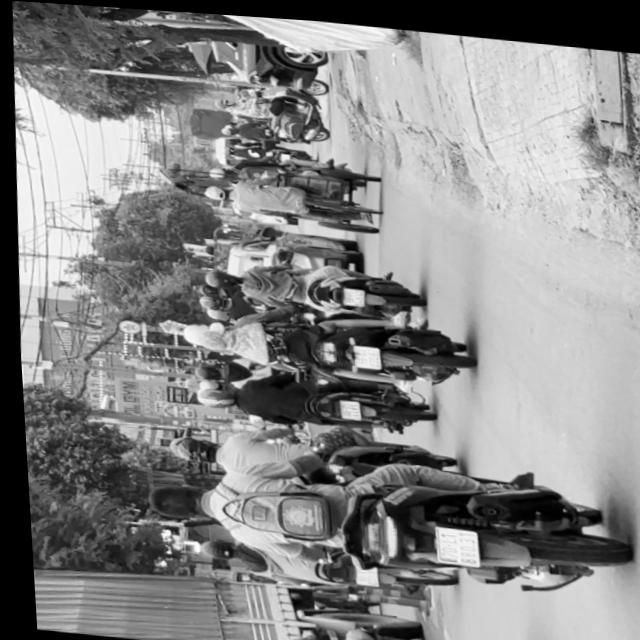helmet: (161, 432, 214, 464), (192, 319, 234, 351), (188, 535, 232, 562), (188, 385, 231, 408), (176, 318, 210, 347), (198, 267, 240, 288)
licenseplate: (135, 423, 622, 603), (165, 294, 471, 386), (159, 411, 457, 496), (186, 359, 429, 438), (195, 248, 422, 317)
motorcyclist: (140, 479, 208, 523)
nohelmet: (426, 520, 473, 561), (347, 340, 375, 365), (331, 395, 355, 416), (336, 283, 360, 302)
